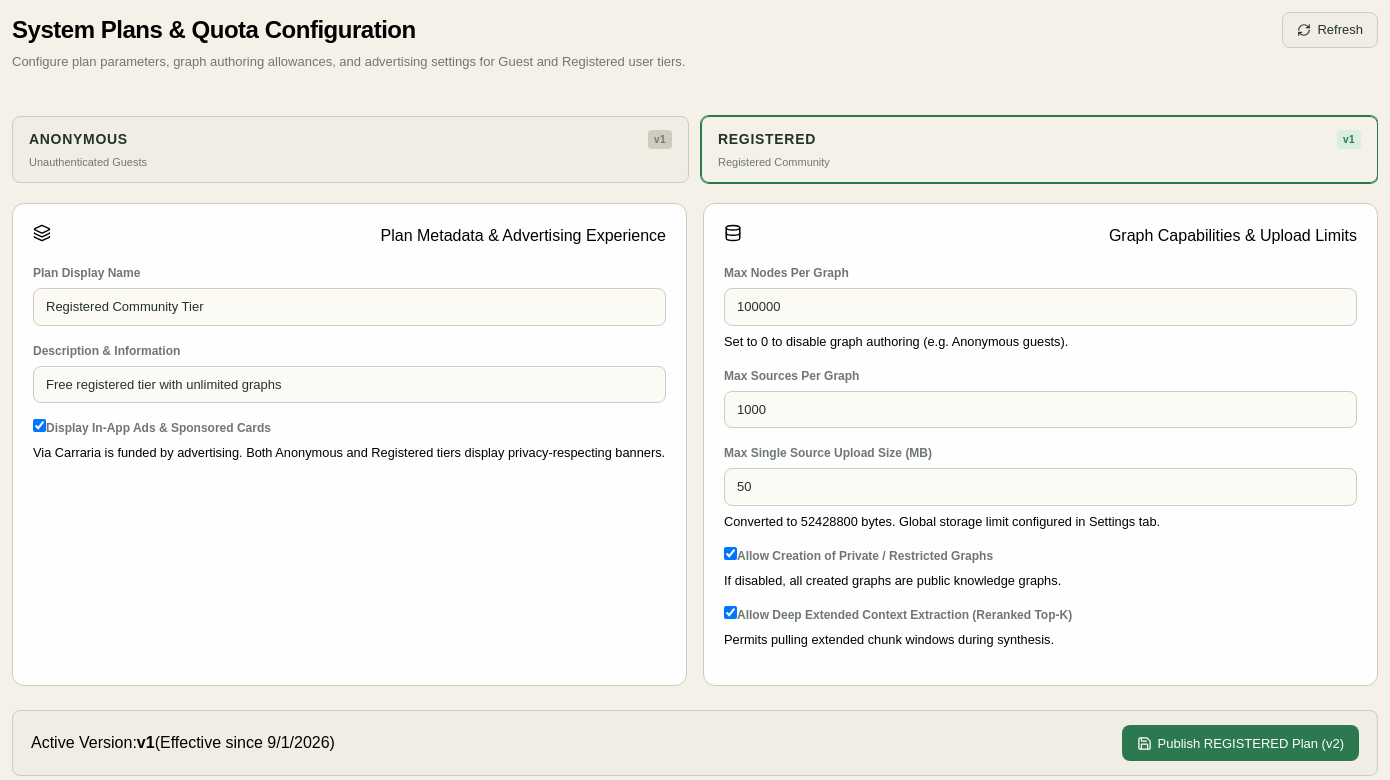
it: AdminPlansTab › switches to ANONYMOUS tab and displays restricted guest allowances
The image size is (1390, 780).
Click the button with test id "tier-tab-anonymous" at (78, 138), box [12,116,689,183]
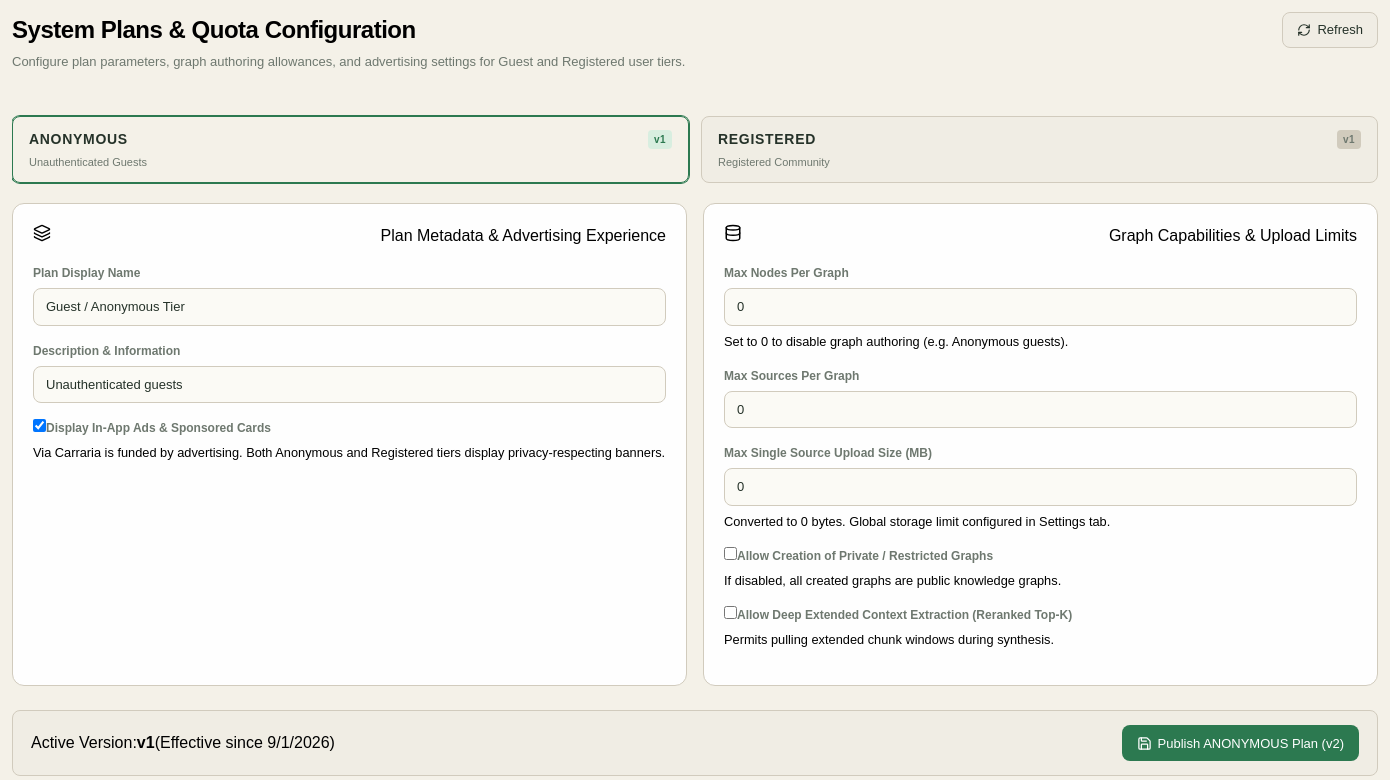
Result: the field labelled "Plan Display Name" holds "Guest / Anonymous Tier" at [33,288,666,326]
Result: the number field labelled "Max Nodes Per Graph" holds "0" at [724,288,1357,326]
Result: the button "Publish ANONYMOUS Plan (v2)" is shown at [1122,725,1359,761]
